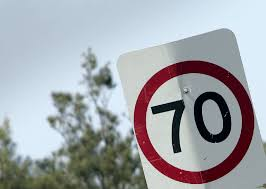Speed_limit_70km: (134, 61, 254, 184)
